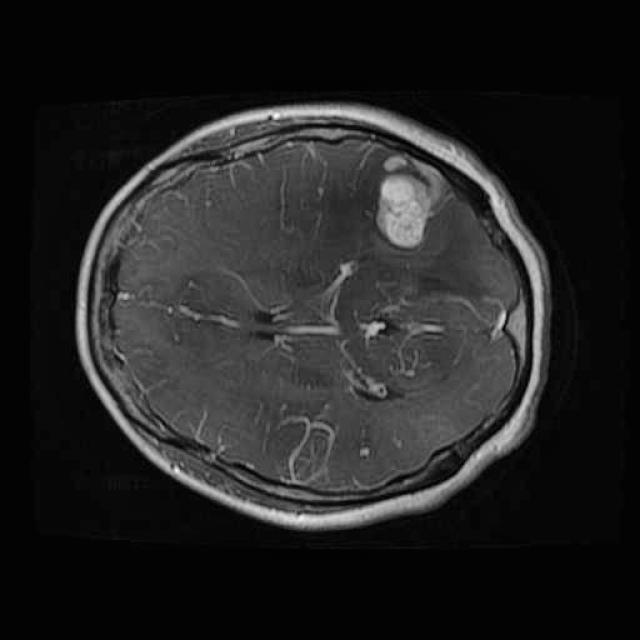Tumor: (365, 145, 453, 255)
